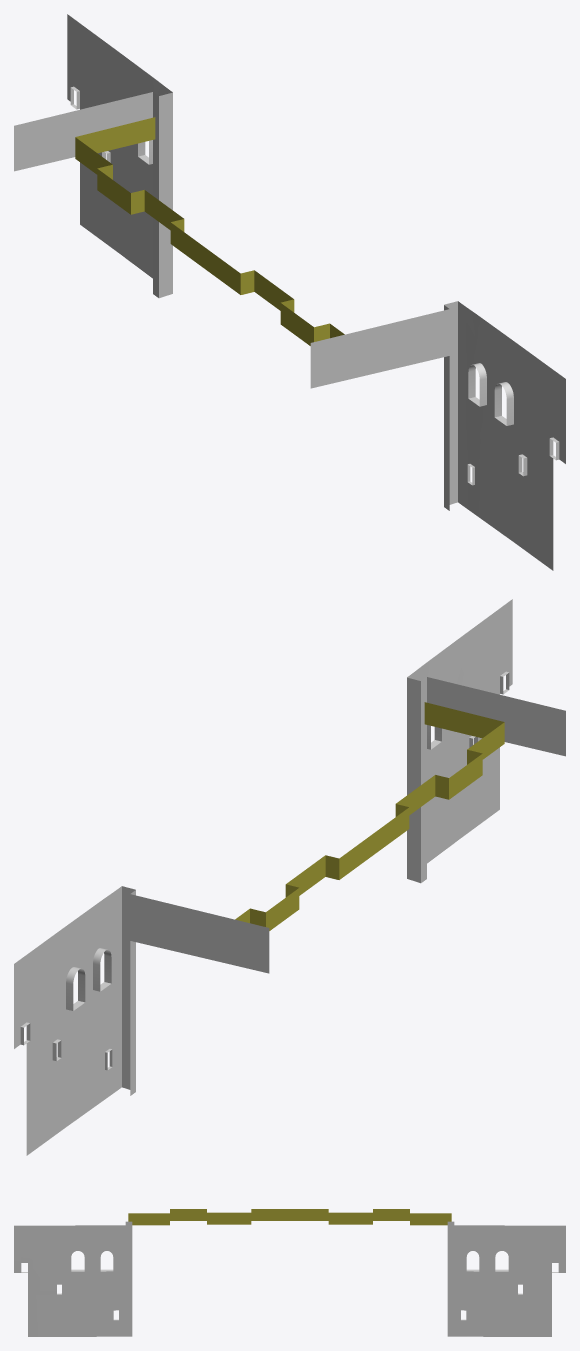
File: Murs_Exte_Basiliques (1).fbx
3 renders of one model, top to bottom at view 1: azimuth 30°, elevation 25°; view 2: azimuth 150°, elevation 25°; view 3: azimuth 270°, elevation 25°, orthographic. The views are drawn at different scales.
Visible parts, largest first — view 1: Basiliques_Extérieur; view 2: Basiliques_Extérieur; view 3: Basiliques_Extérieur.
Boxes of the visible parts, x1=… form: Basiliques_Extérieur: x1=14, y1=14, x2=565, y2=570; Basiliques_Extérieur: x1=14, y1=599, x2=565, y2=1155; Basiliques_Extérieur: x1=14, y1=1209, x2=565, y2=1336.
Size of the model in its own units: 1828 by 2291 by 10229.
